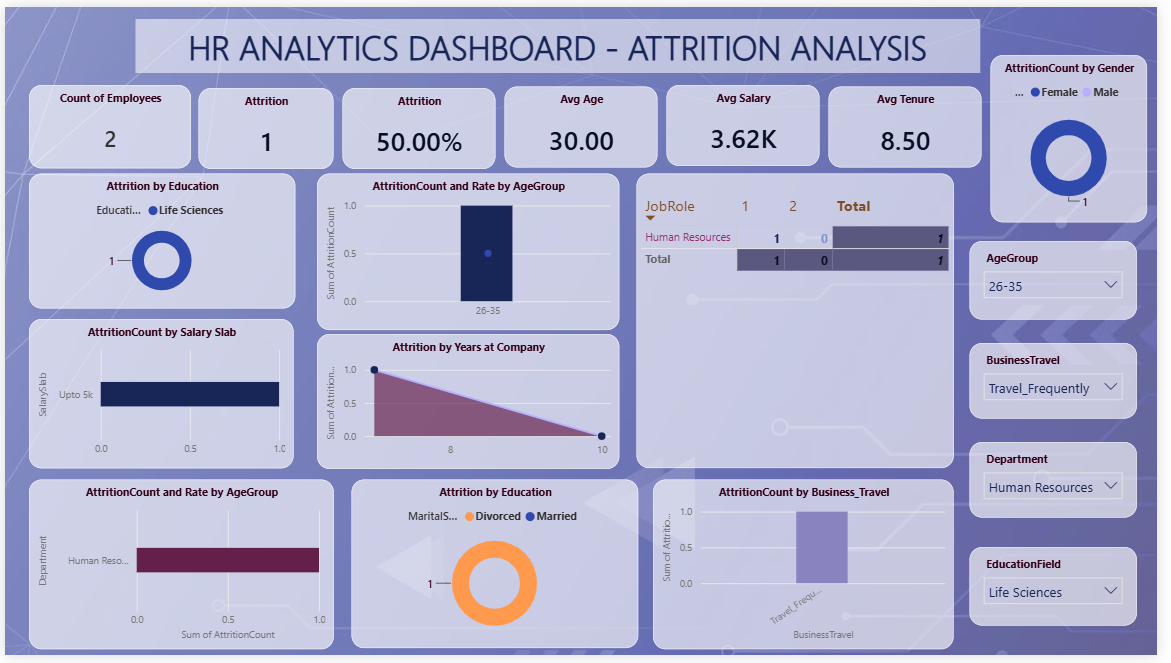

The dashboard page shown, as its layout file describes it:
{"tool":"powerbi","page":{"name":"Page 1","canvas":[1280,720],"ordinal":0},"visuals":[{"type":"textbox","box":[145.7,12.9,938.6,60],"z":0},{"type":"cardVisual","title":"Count of Employees","fields":{"Data":["Count(HR_Analytics.EmpID)"]},"box":[27.1,87.1,180,92.9],"z":1000},{"type":"cardVisual","title":"Attrition","fields":{"Data":["Sum(HR_Analytics.AttritionCount)"]},"box":[215.7,90,150,90],"z":2000},{"type":"cardVisual","title":"Attrition","fields":{"Data":["HR_Analytics.AttritionRate"]},"box":[375.7,90,170,90],"z":3000},{"type":"cardVisual","title":"Avg Age","fields":{"Data":["Avg(HR_Analytics.Age)"]},"box":[554.3,88.6,170,90],"z":4000},{"type":"cardVisual","title":"Avg Salary","fields":{"Data":["Avg(HR_Analytics.MonthlyIncome)"]},"box":[734.3,87.1,170,90],"z":5000},{"type":"cardVisual","title":"Avg Tenure","fields":{"Data":["Avg(HR_Analytics.YearsAtCompany)"]},"box":[914.3,88.6,170,90],"z":6000},{"type":"donutChart","title":"AttritionCount by Gender","fields":{"Category":["HR_Analytics.Gender"],"Y":["Sum(HR_Analytics.AttritionCount)"]},"box":[1094.3,52.9,174.3,185.7],"z":7000},{"type":"donutChart","title":"Attrition by Education","fields":{"Category":["HR_Analytics.EducationField","HR_Analytics.YearsAtCompany"],"Y":["Sum(HR_Analytics.AttritionCount)"]},"box":[27.1,185.7,295.7,150],"z":8000},{"type":"lineStackedColumnComboChart","title":"AttritionCount and Rate by AgeGroup","fields":{"Category":["HR_Analytics.AgeGroup"],"Y":["Sum(HR_Analytics.AttritionCount)"],"Y2":["HR_Analytics.AttritionRate"]},"box":[347.1,185.7,335.7,174.3],"z":9000},{"type":"pivotTable","fields":{"Rows":["HR_Analytics.JobRole"],"Columns":["HR_Analytics.JobLevel"],"Values":["Sum(HR_Analytics.AttritionCount)"]},"box":[701.4,185.7,352.9,327.1],"z":10000},{"type":"barChart","title":"AttritionCount by Salary Slab","fields":{"Y":["Sum(HR_Analytics.AttritionCount)"],"Category":["HR_Analytics.SalarySlab"]},"box":[27.1,347.1,294.3,165.7],"z":11000},{"type":"areaChart","title":"Attrition by Years at Company","fields":{"Y":["Sum(HR_Analytics.AttritionCount)"],"Category":["HR_Analytics.YearsAtCompany"]},"box":[347.1,362.9,335.7,150],"z":12000},{"type":"barChart","title":"AttritionCount and Rate by AgeGroup","fields":{"Y":["Sum(HR_Analytics.AttritionCount)"],"Category":["HR_Analytics.Department"]},"box":[27.1,524.3,338.6,188.6],"z":12001},{"type":"donutChart","title":"Attrition by Education","fields":{"Y":["Sum(HR_Analytics.AttritionCount)"],"Category":["HR_Analytics.MaritalStatus"]},"box":[385.7,525.7,318.6,187.1],"z":12002},{"type":"columnChart","title":"AttritionCount by Business_Travel","fields":{"Category":["HR_Analytics.BusinessTravel"],"Y":["Sum(HR_Analytics.AttritionCount)"]},"box":[720,524.3,334.3,188.6],"z":12003},{"type":"slicer","fields":{"Values":["HR_Analytics.AgeGroup"]},"box":[1071.4,260,185.7,87.1],"z":12004},{"type":"slicer","fields":{"Values":["HR_Analytics.BusinessTravel"]},"box":[1071.4,372.9,185.7,84.3],"z":12005},{"type":"slicer","fields":{"Values":["HR_Analytics.Department"]},"box":[1071.4,482.9,185.7,84.3],"z":12006},{"type":"slicer","fields":{"Values":["HR_Analytics.EducationField"]},"box":[1071.4,600,185.7,87.1],"z":12007}]}

Visuals, with their boxes in screenshot pixels (x1, y1, x2, y2), scaled from the page's 1280x720 canvas onto the 1171x663 screenshot:
textbox: bbox=(133, 12, 992, 67)
"Count of Employees" cardVisual: bbox=(25, 80, 189, 166)
"Attrition" cardVisual: bbox=(197, 83, 335, 166)
"Attrition" cardVisual: bbox=(344, 83, 499, 166)
"Avg Age" cardVisual: bbox=(507, 82, 663, 164)
"Avg Salary" cardVisual: bbox=(672, 80, 827, 163)
"Avg Tenure" cardVisual: bbox=(836, 82, 992, 164)
"AttritionCount by Gender" donutChart: bbox=(1001, 49, 1161, 220)
"Attrition by Education" donutChart: bbox=(25, 171, 295, 309)
"AttritionCount and Rate by AgeGroup" lineStackedColumnComboChart: bbox=(318, 171, 625, 332)
pivotTable - HR_Analytics.JobRole x HR_Analytics.JobLevel: bbox=(642, 171, 965, 472)
"AttritionCount by Salary Slab" barChart: bbox=(25, 320, 294, 472)
"Attrition by Years at Company" areaChart: bbox=(318, 334, 625, 472)
"AttritionCount and Rate by AgeGroup" barChart: bbox=(25, 483, 335, 656)
"Attrition by Education" donutChart: bbox=(353, 484, 644, 656)
"AttritionCount by Business_Travel" columnChart: bbox=(659, 483, 965, 656)
slicer - HR_Analytics.AgeGroup: bbox=(980, 239, 1150, 320)
slicer - HR_Analytics.BusinessTravel: bbox=(980, 343, 1150, 421)
slicer - HR_Analytics.Department: bbox=(980, 445, 1150, 522)
slicer - HR_Analytics.EducationField: bbox=(980, 552, 1150, 633)
